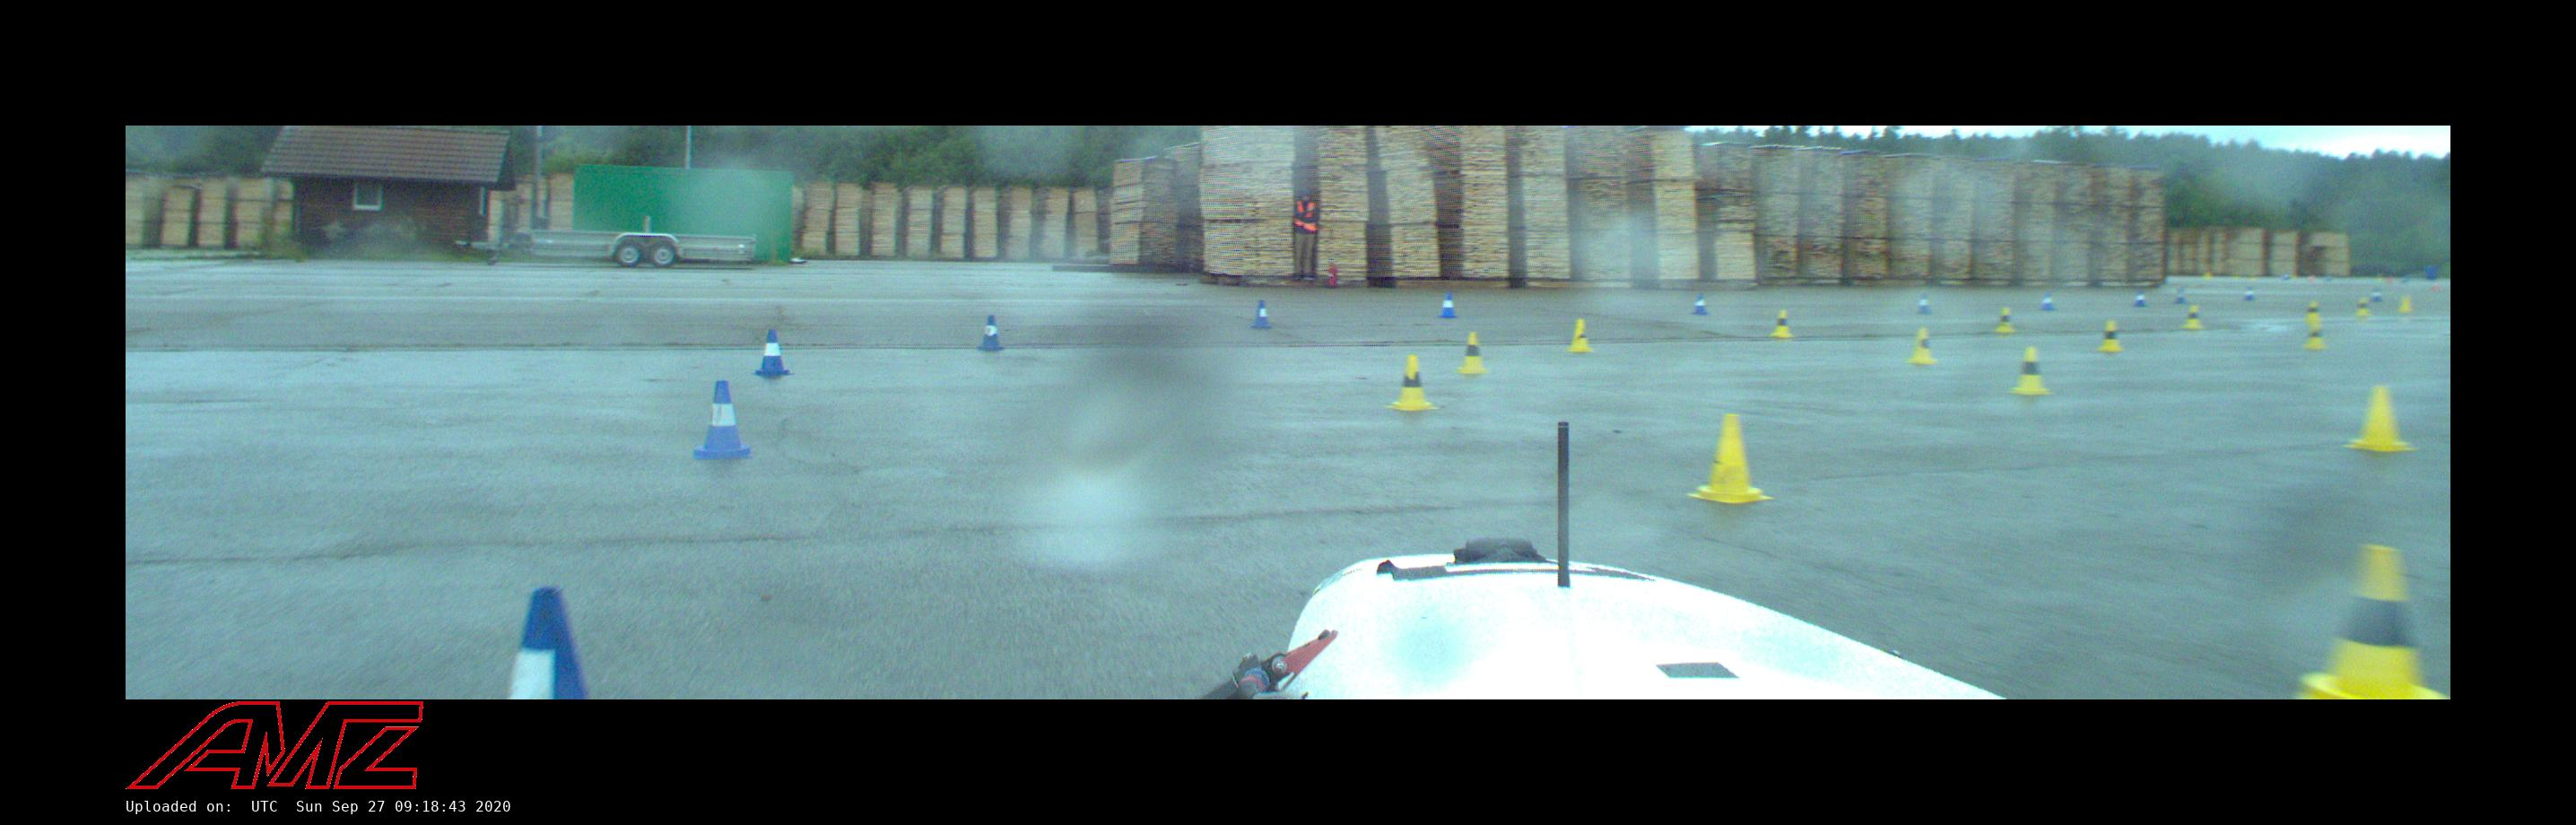blue_cone: (509, 587, 590, 700), (692, 381, 754, 459), (752, 329, 795, 376), (979, 316, 1004, 350), (1252, 299, 1272, 329), (1439, 293, 1459, 319), (1690, 294, 1710, 316), (1916, 293, 1934, 316), (2037, 293, 2057, 311), (2132, 289, 2147, 307), (2369, 286, 2384, 302), (2173, 288, 2187, 304), (2242, 288, 2256, 301)
yellow_cone: (2287, 544, 2449, 698), (1687, 414, 1773, 505), (2343, 385, 2417, 452), (1387, 355, 1439, 411), (2006, 347, 2054, 394), (1456, 330, 1488, 373), (1904, 329, 1940, 365), (2096, 320, 2124, 352), (1566, 319, 1592, 352), (1769, 311, 1794, 337), (2303, 322, 2328, 348), (1994, 307, 2016, 332), (2183, 306, 2205, 329), (2305, 301, 2321, 322), (2354, 297, 2371, 316), (2397, 296, 2413, 312)
